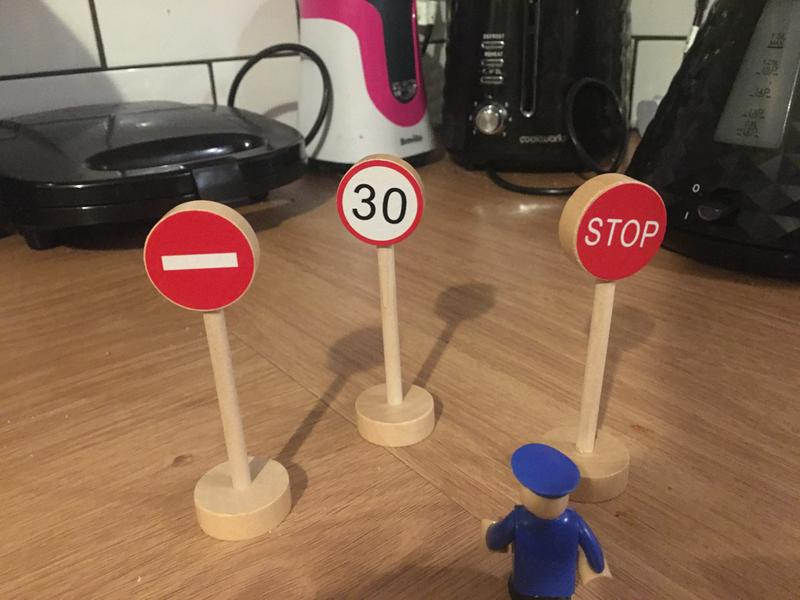Traffic_Sign_30: (338, 160, 424, 245)
Traffic_Sign_No_Entry: (144, 210, 254, 313)
Traffic_Sign_Stop: (576, 183, 666, 280)
person: (477, 439, 615, 600)
